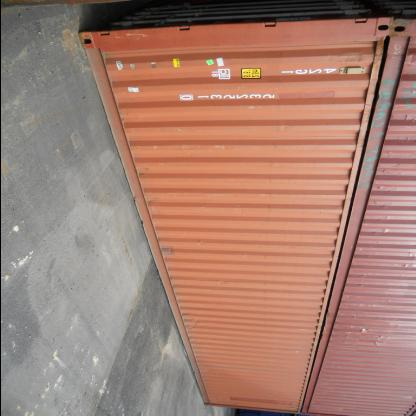Damage: (165, 312, 203, 339), (168, 118, 192, 152), (112, 31, 160, 45), (156, 240, 182, 259), (208, 274, 230, 290)
